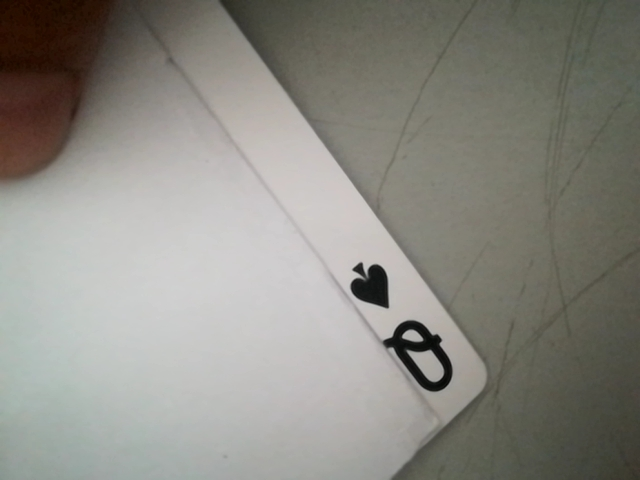ht q: (336, 247, 477, 415)
